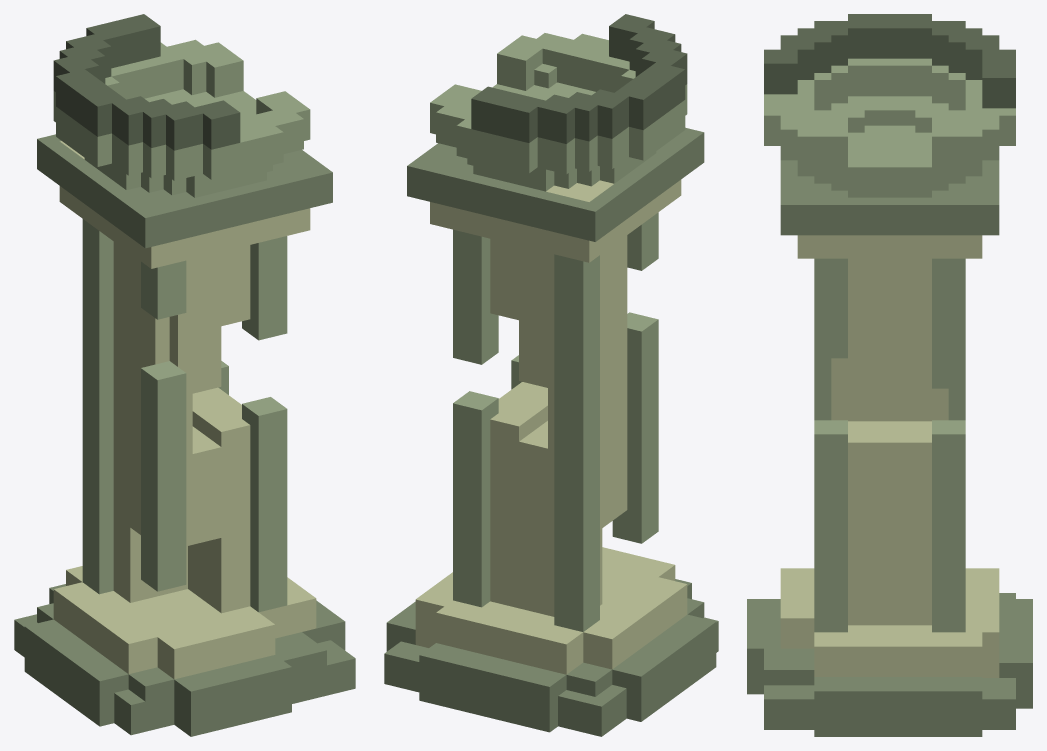
File: torch.obj
3 renders of one model, left to right at view 1: azimuth 30°, elevation 25°; view 2: azimuth 150°, elevation 25°; view 3: azimuth 270°, elevation 25°, orthographic.
Size of the model in its own units: 1.7 by 4 by 1.7.
Materials: 1 (1 with a texture image).
